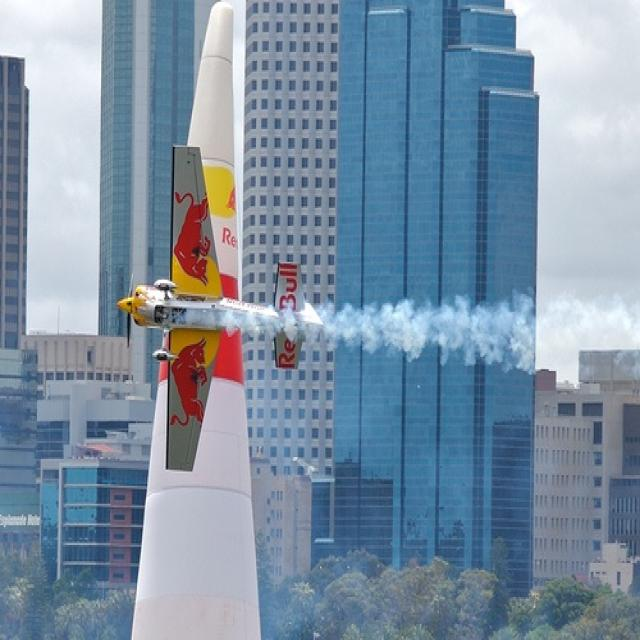aeroplane: (114, 142, 302, 472)
